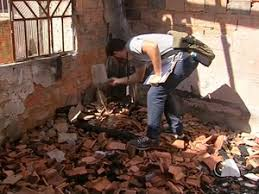rubble: (37, 109, 227, 189)
